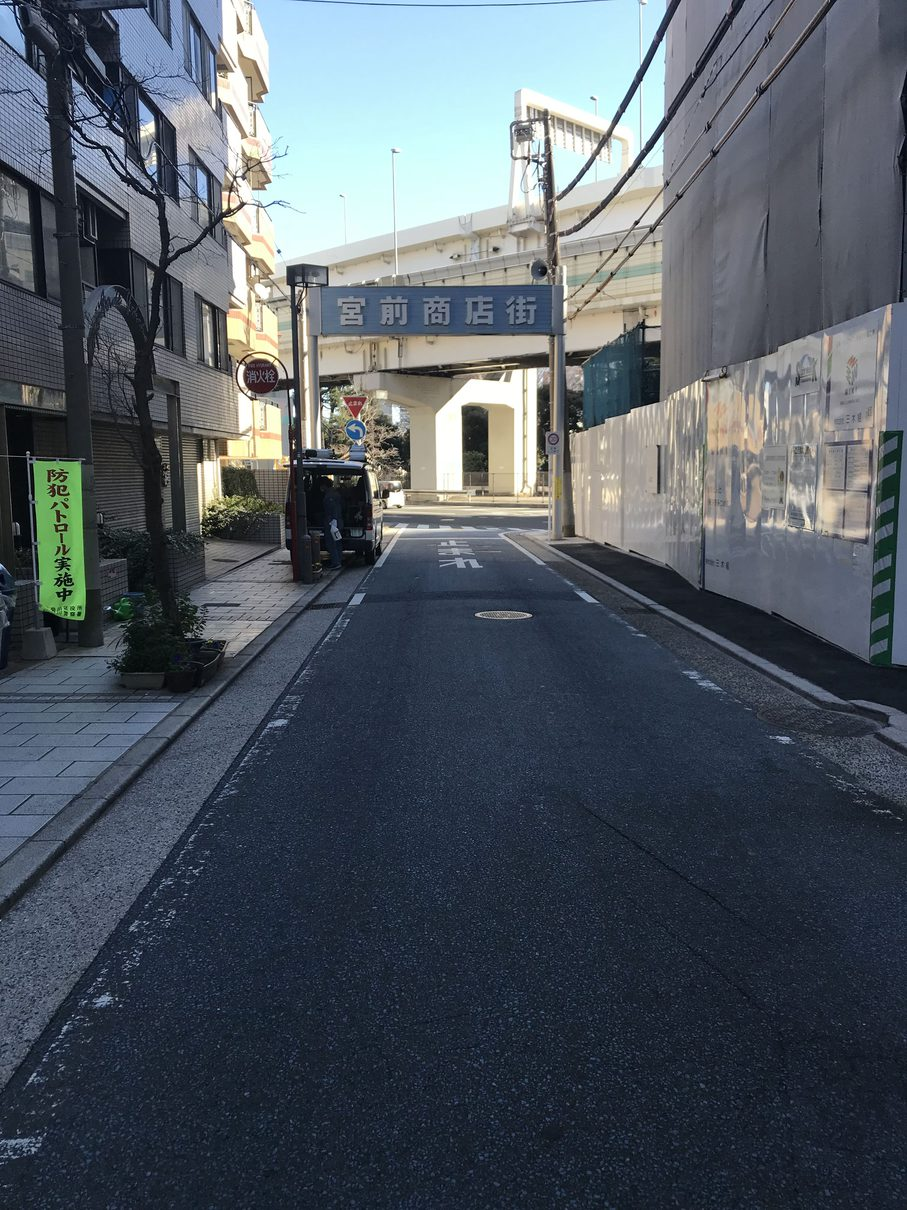stop_sign: (341, 394, 368, 417)
